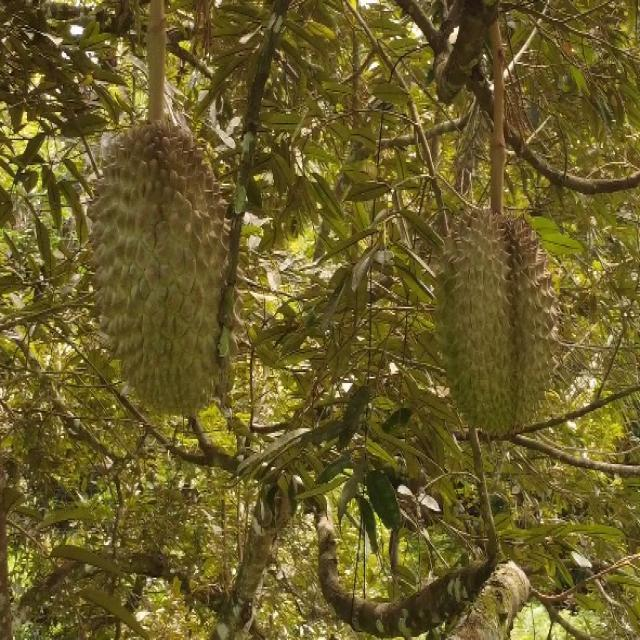mature: (81, 107, 240, 423), (436, 204, 559, 436)
